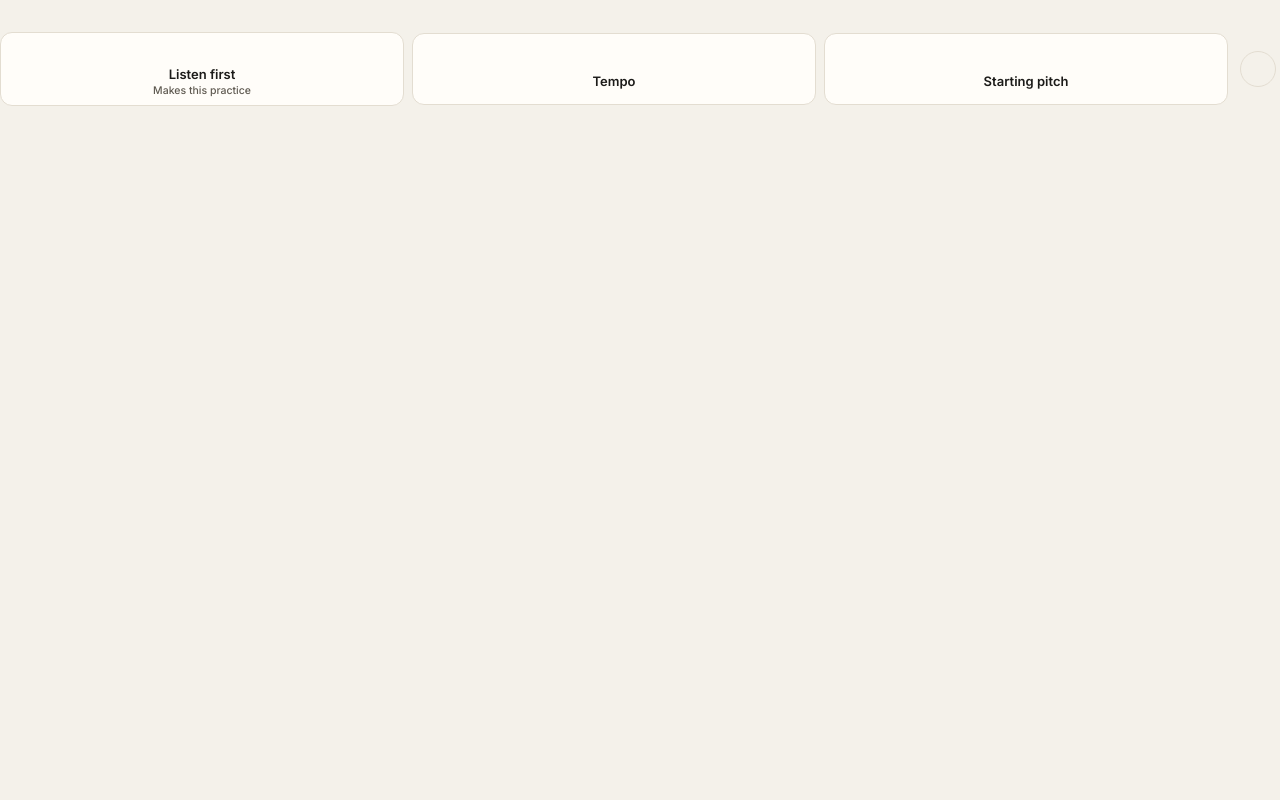
Test case: SoundsDock (phone) › "What do these do?" opens the explain sheet
Click the button with class "sd-dock-info": (1258, 69) [1236,47,1279,91]
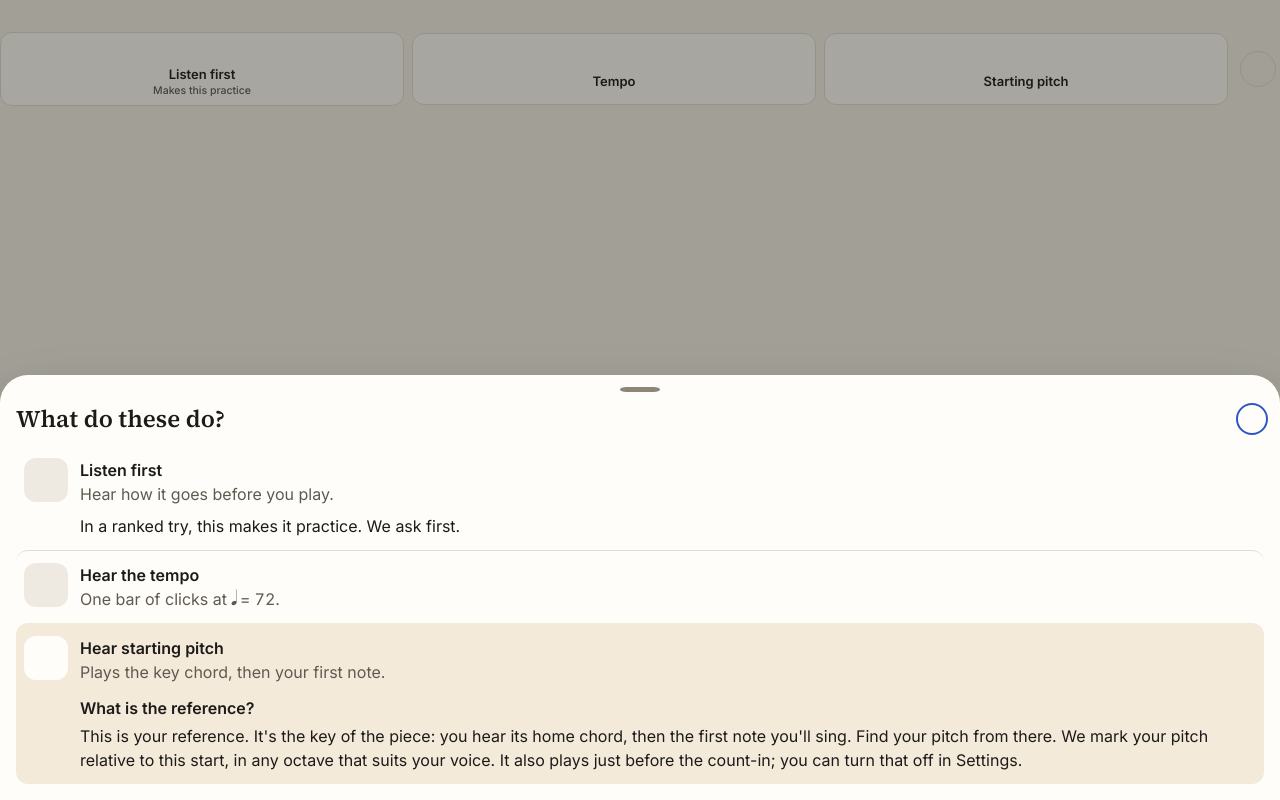
Check: the heading with class "ui-sheet-title" reads "What do these do?", box [16,402,225,435]
Check: the list with test id "explain-list" is shown, box [16,446,1264,784]
